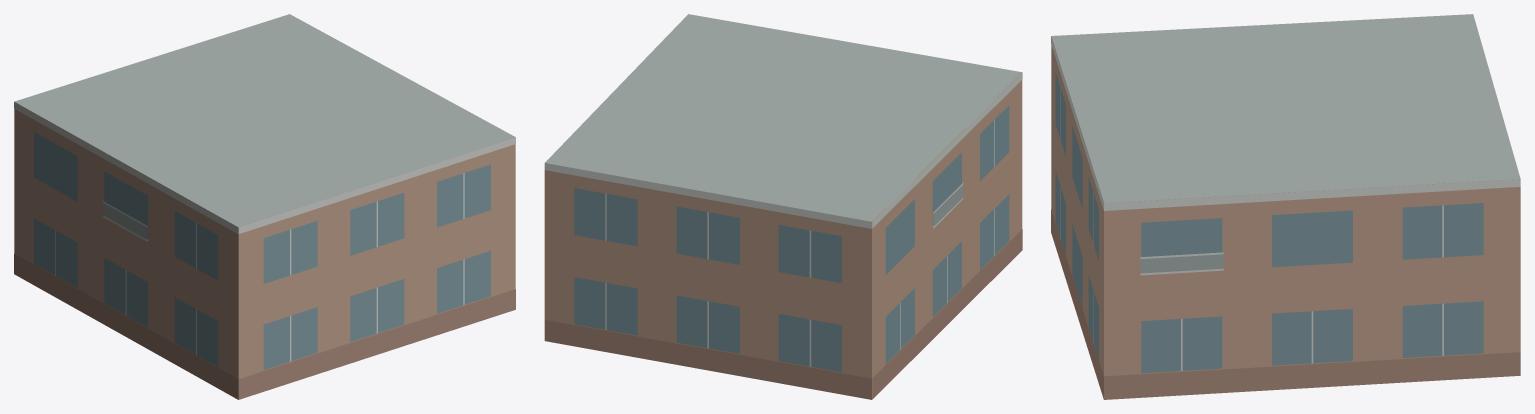
The model's file is survey-upis-32879984.glb.
The picture shows the model from 3 angles, left to right: view 1: azimuth 30°, elevation 25°; view 2: azimuth 150°, elevation 25°; view 3: azimuth 270°, elevation 25°; orthographic projection. The views are drawn at different scales.
Visible parts, largest first — view 1: survey-upis-32879984.tmp; view 2: survey-upis-32879984.tmp; view 3: survey-upis-32879984.tmp.
Part boxes in pixels (bbox=[...]): survey-upis-32879984.tmp: bbox=[14, 14, 515, 399]; survey-upis-32879984.tmp: bbox=[544, 14, 1022, 399]; survey-upis-32879984.tmp: bbox=[1051, 14, 1520, 399].
Size of the model in its own units: 12.59 by 6.1 by 13.2.
